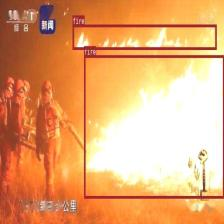fire: (83, 54, 224, 197), (72, 24, 216, 50)
